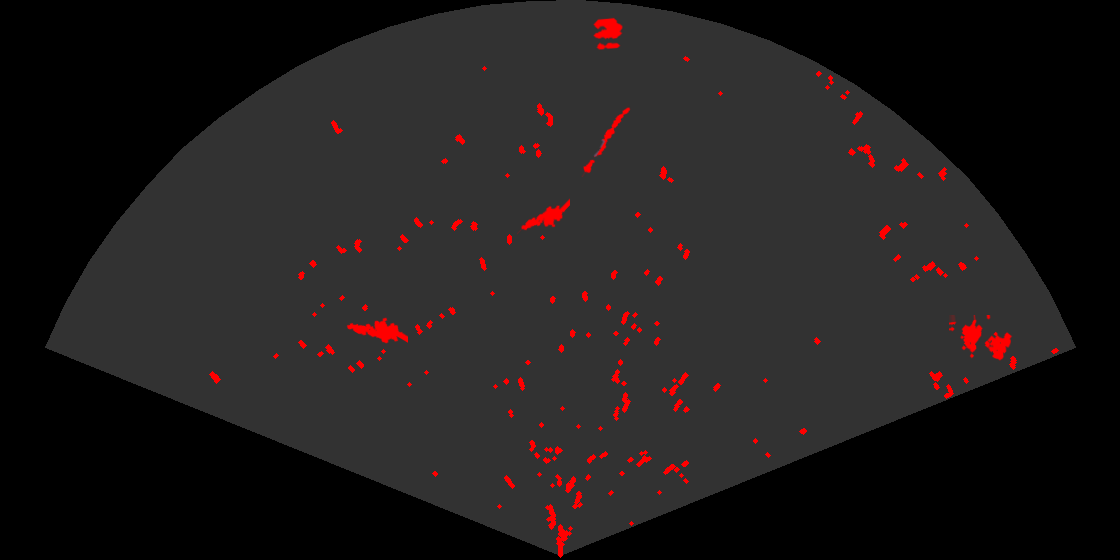ball: (592, 16, 624, 51)
cage: (949, 315, 1014, 362)
chain: (580, 106, 632, 177)
frogman: (517, 197, 570, 236), (345, 316, 408, 345)
